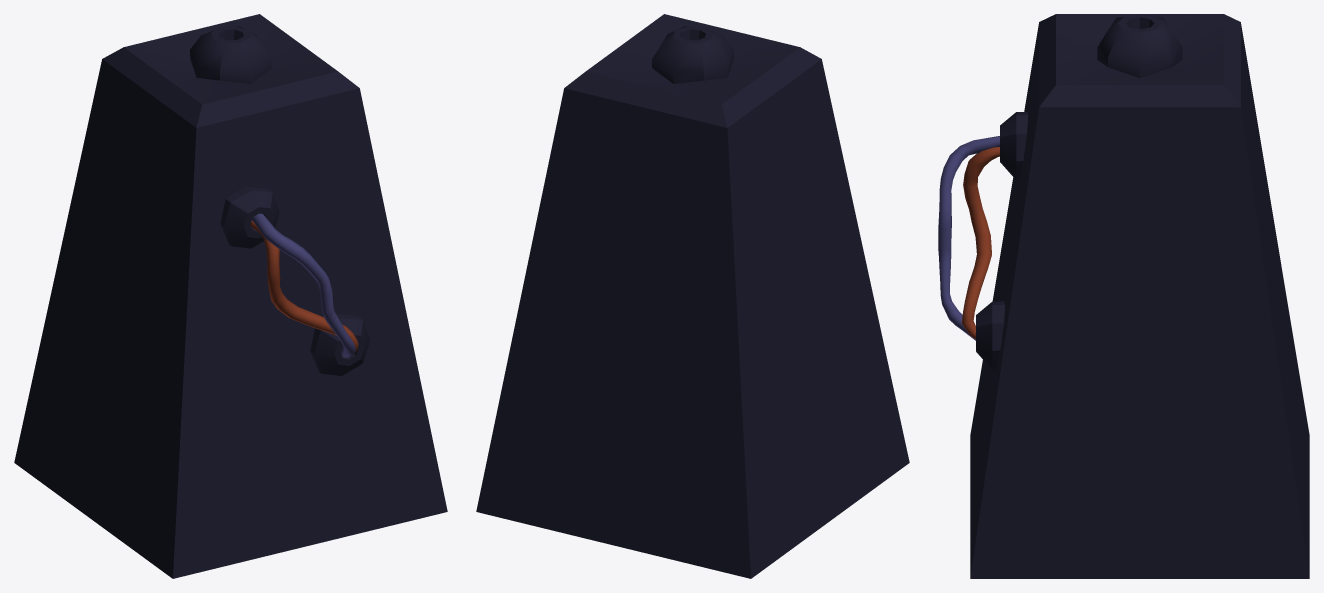
The model's file is Fire.glb.
The picture shows the model from 3 angles, left to right: view 1: azimuth 30°, elevation 25°; view 2: azimuth 150°, elevation 25°; view 3: azimuth 270°, elevation 25°; orthographic projection. The views are drawn at different scales.
Parts seen in each view (by area): view 1: Cube.002, Cylinder, Cylinder.001; view 2: Cube.002; view 3: Cube.002, Cylinder.001, Cylinder.
Part boxes in pixels (left/top/right/bottom): Cube.002: left=14, top=14, right=447, bottom=578; Cylinder: left=252, top=213, right=355, bottom=358; Cylinder.001: left=250, top=220, right=358, bottom=352; Cube.002: left=476, top=14, right=909, bottom=578; Cube.002: left=970, top=14, right=1309, bottom=578; Cylinder.001: left=961, top=147, right=999, bottom=338; Cylinder: left=938, top=136, right=999, bottom=340.
Bounding box in the file's own units: 0.2 × 0.3146 × 0.2189.
